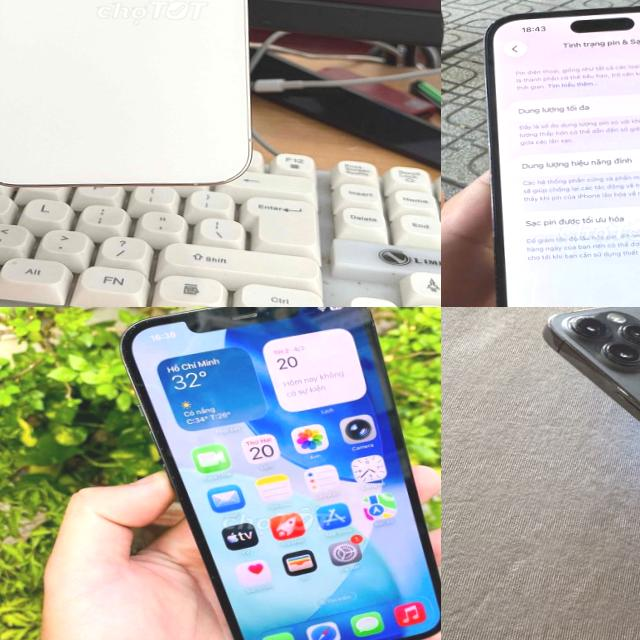gen_12_13: (117, 307, 441, 640), (0, 0, 265, 197), (533, 307, 640, 612)
gen_14: (471, 0, 640, 307)
